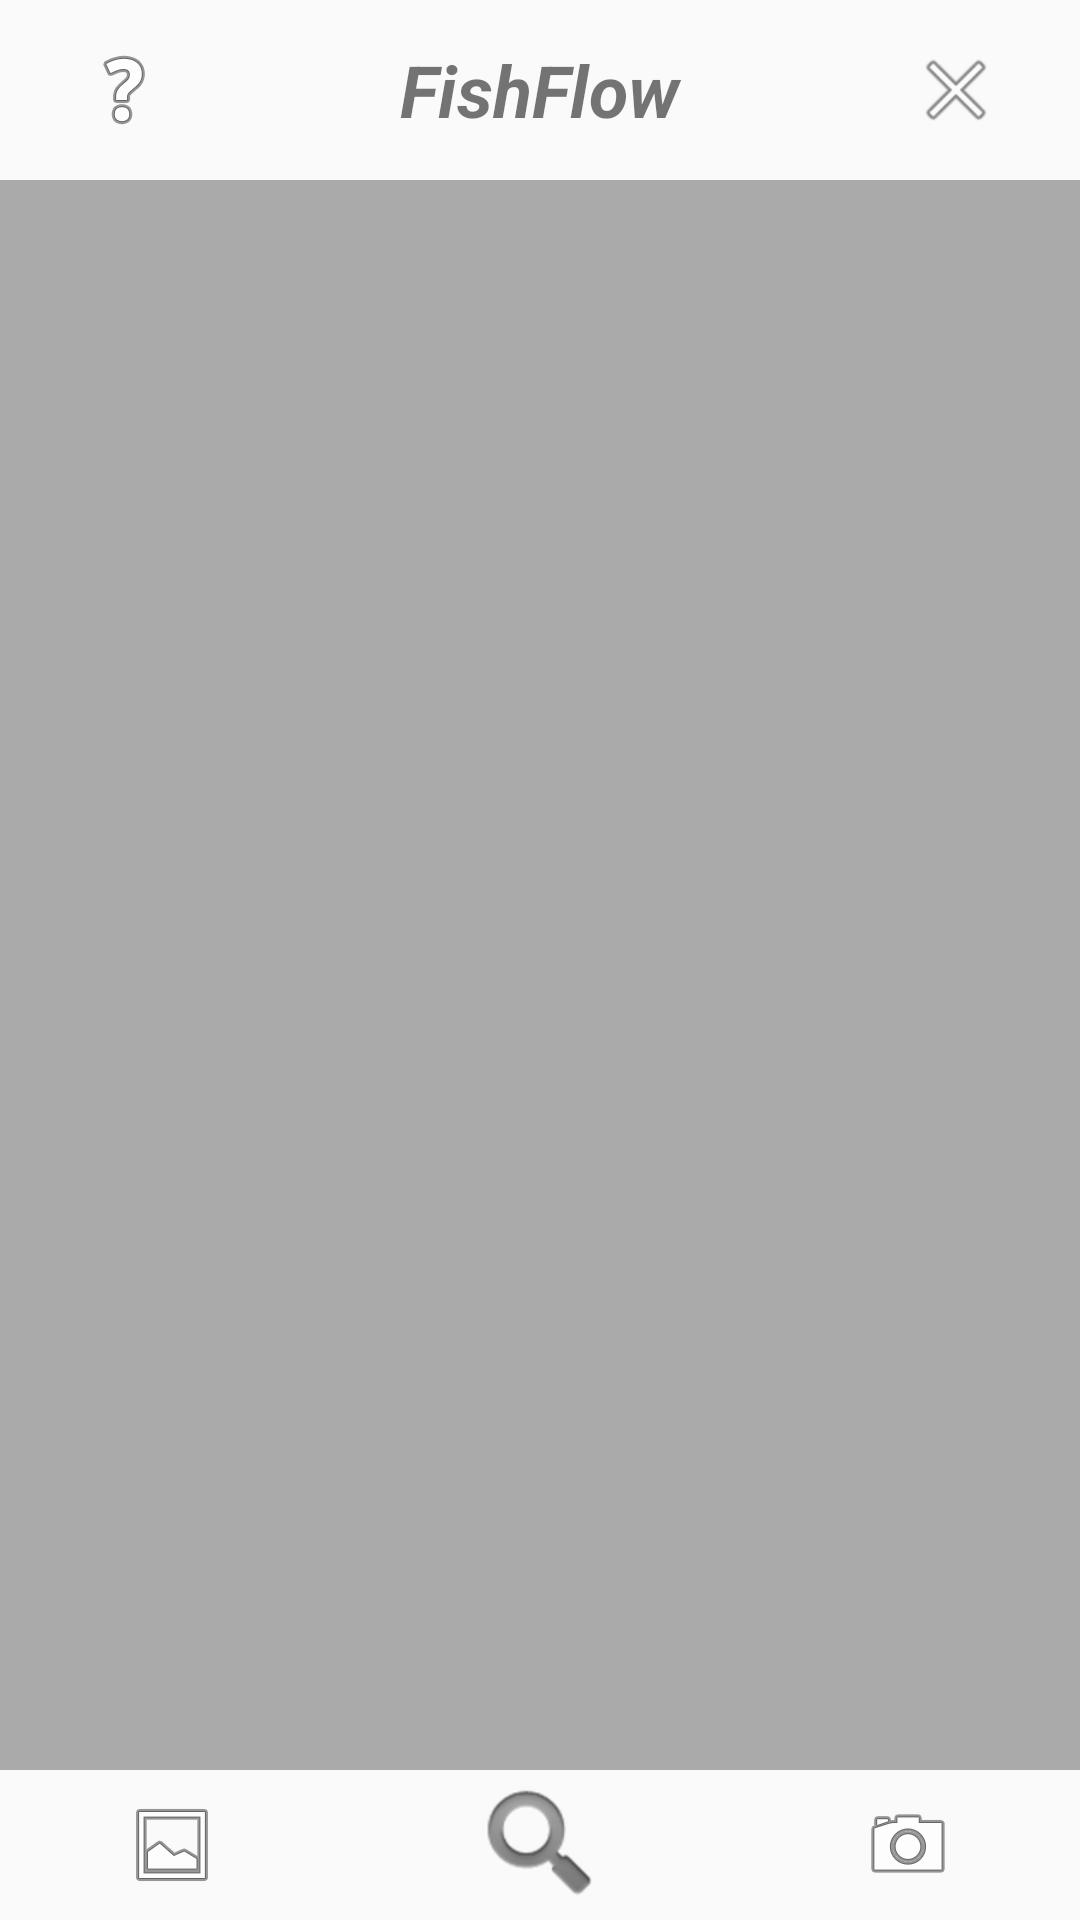

Where icons sit on this 1080×1920 app screen, as (x1, y1, x2, y2):
camera: (871, 1814, 945, 1873)
close clear cancel: (926, 60, 986, 120)
gallery: (136, 1809, 208, 1881)
help: (103, 56, 145, 124)
search category: (487, 1790, 591, 1894)
